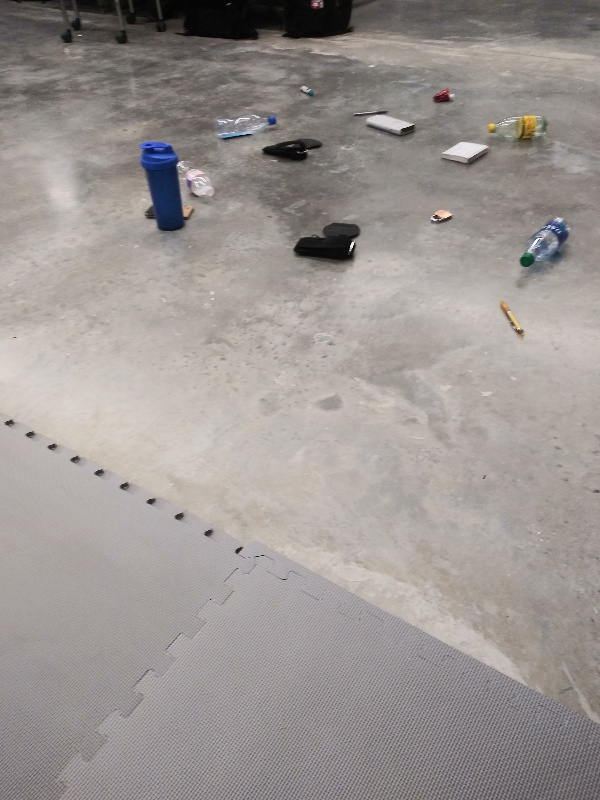bottle: (518, 214, 574, 269), (175, 154, 217, 200), (484, 113, 549, 142), (212, 112, 280, 139)
